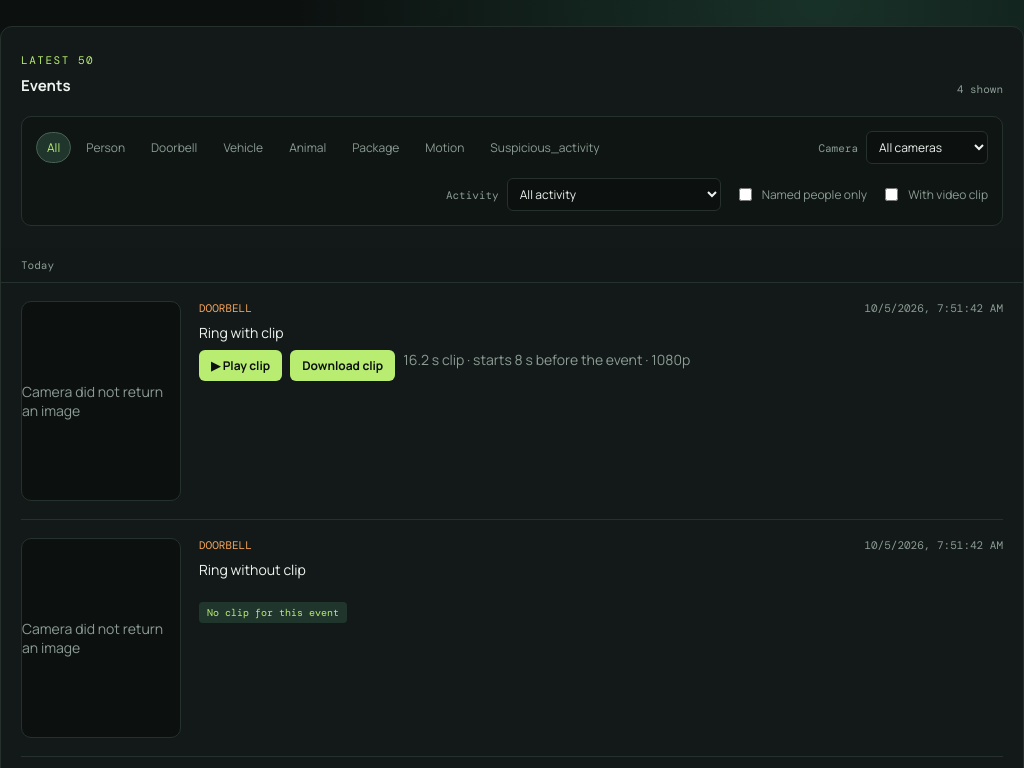
it: events filters for clips and animals › shows only events with a playable clip
The width and height of the screenshot is (1024, 768).
Step 1. Click the checkbox labelled "With video clip" → [892, 194], box [885, 188, 898, 201]
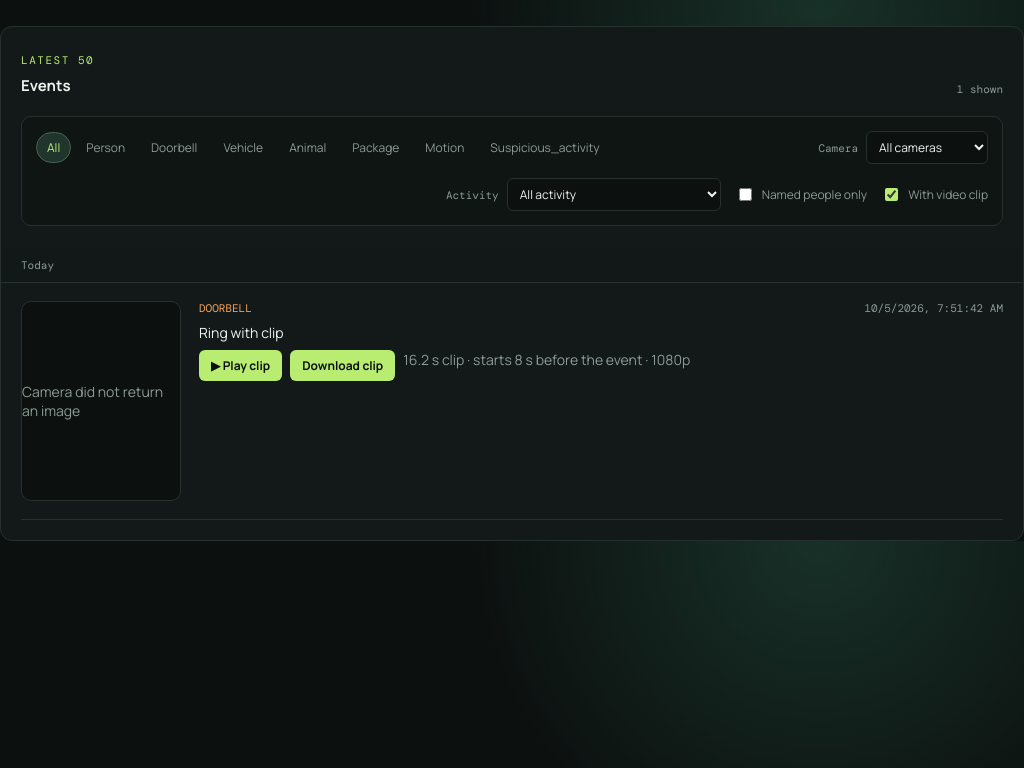
expect the text "Ring with clip" is shown: met, box [199, 323, 284, 342]
expect the text "Ring without clip" is gone: met
